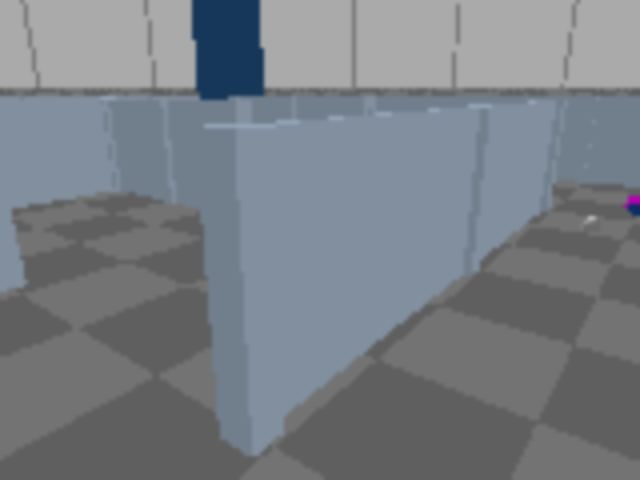puck: (578, 215, 605, 235)
